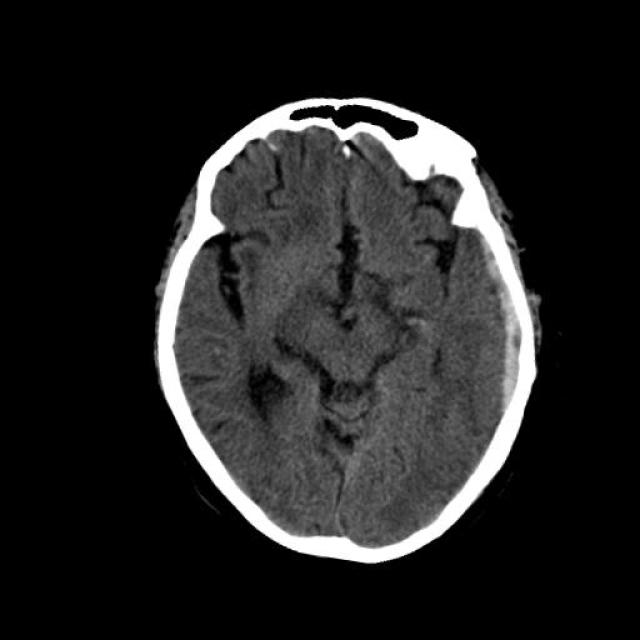Subdural: (439, 232, 577, 450)
